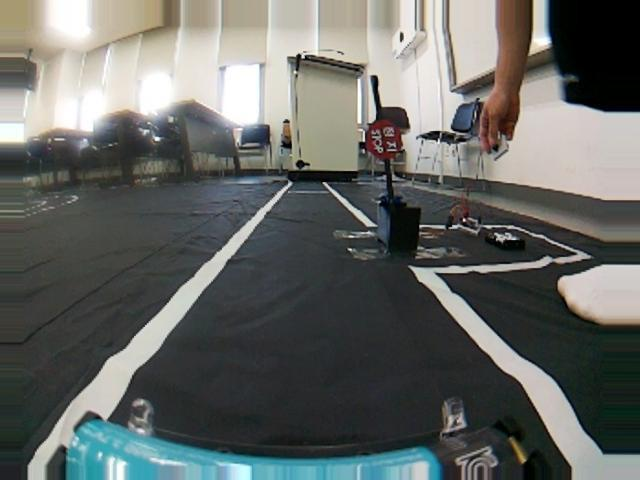sign_stop: (360, 115, 409, 160)
straight: (34, 281, 554, 471)
